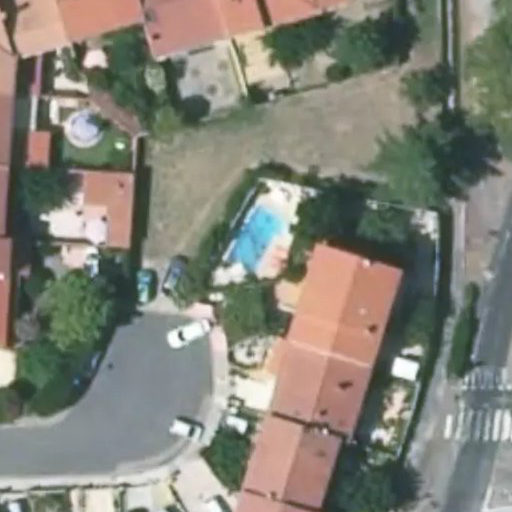pool: (227, 207, 285, 277)
